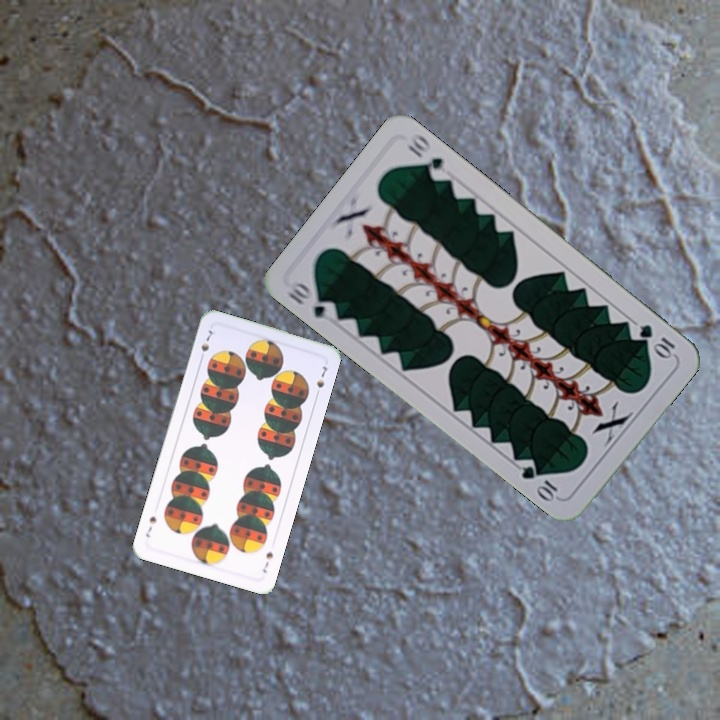G10: (283, 278, 341, 322), (635, 320, 678, 362)
S7: (196, 326, 215, 364), (258, 547, 276, 576)
